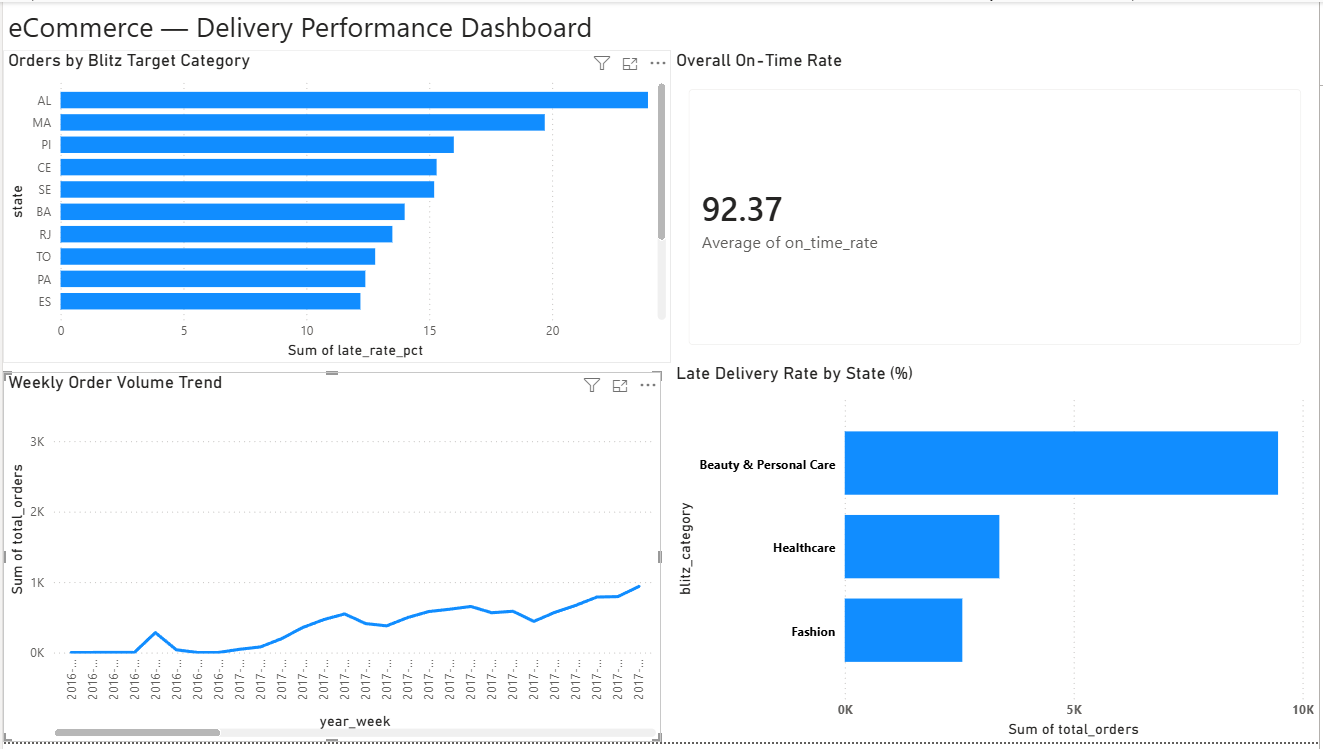

This screenshot's page, from the dashboard's own definition file:
{"tool":"powerbi","page":{"name":"Page 1","canvas":[1280,720],"ordinal":0},"visuals":[{"type":"clusteredBarChart","title":"Late Delivery Rate by State (%)","fields":{"Category":["category_performance.blitz_category"],"Y":["Sum(category_performance.total_orders)"]},"box":[649.7,351.1,630.3,368.6],"z":0},{"type":"cardVisual","title":"Overall On-Time Rate","fields":{"Data":["Avg(category_performance.on_time_rate)"]},"box":[649.7,46.7,630.3,304.4],"z":1000},{"type":"lineChart","title":"Weekly Order Volume Trend","fields":{"Category":["weekly_trend.year_week"],"Y":["Sum(weekly_trend.total_orders)"]},"box":[0,359.9,640,359.9],"z":2000},{"type":"clusteredBarChart","title":"Orders by Blitz Target Category","fields":{"Category":["state_performance.state"],"Y":["Sum(state_performance.late_rate_pct)"]},"box":[0,46.7,649.7,304.4],"z":2001},{"type":"textbox","box":[0,0,590.4,46.7],"z":2002}]}

Visuals, with their boxes in screenshot pixels (x1, y1, x2, y2), scaled from the page's 1280x720 canvas onto the 1323x749 screenshot:
"Late Delivery Rate by State (%)" clusteredBarChart: [left=672, top=365, right=1322, bottom=748]
"Overall On-Time Rate" cardVisual: [left=672, top=49, right=1322, bottom=365]
"Weekly Order Volume Trend" lineChart: [left=0, top=374, right=662, bottom=748]
"Orders by Blitz Target Category" clusteredBarChart: [left=0, top=49, right=672, bottom=365]
textbox: [left=0, top=0, right=610, bottom=49]
